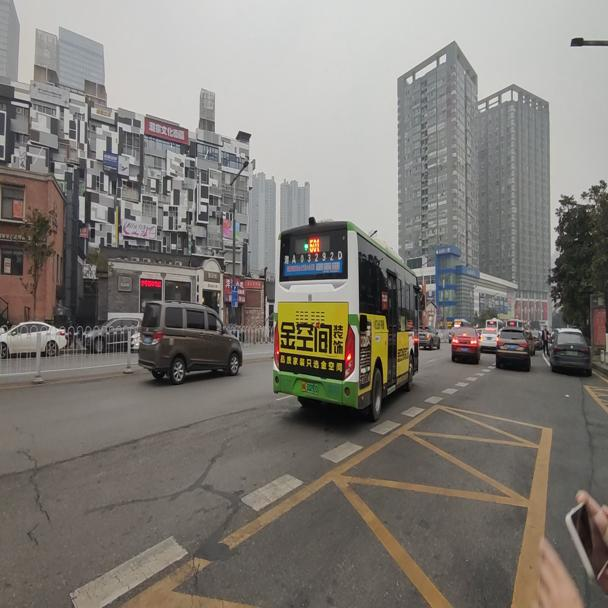bus: (272, 215, 425, 422)
screen: (309, 239, 320, 252)
